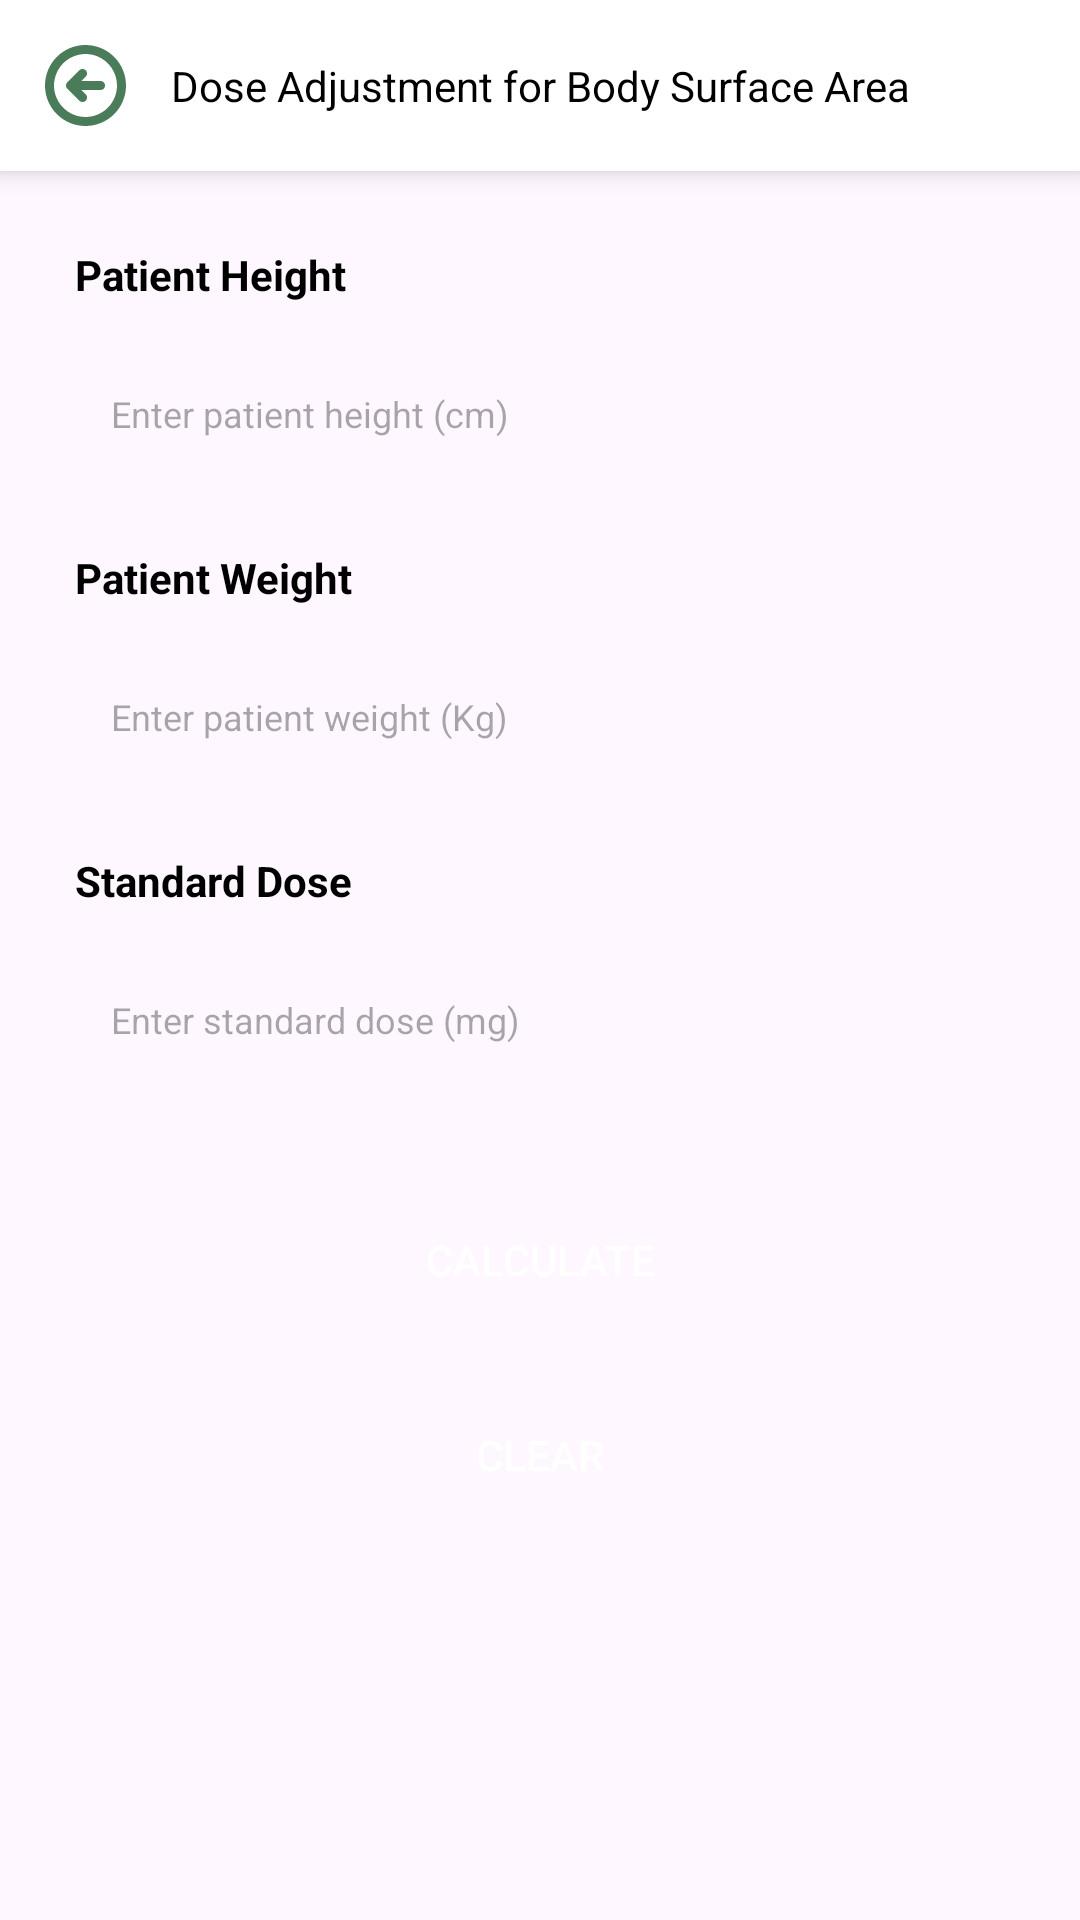

Where to tap for icons on this 1080×1920 app screen, as (x=x, y=y):
arrow back: (x=85, y=85)
